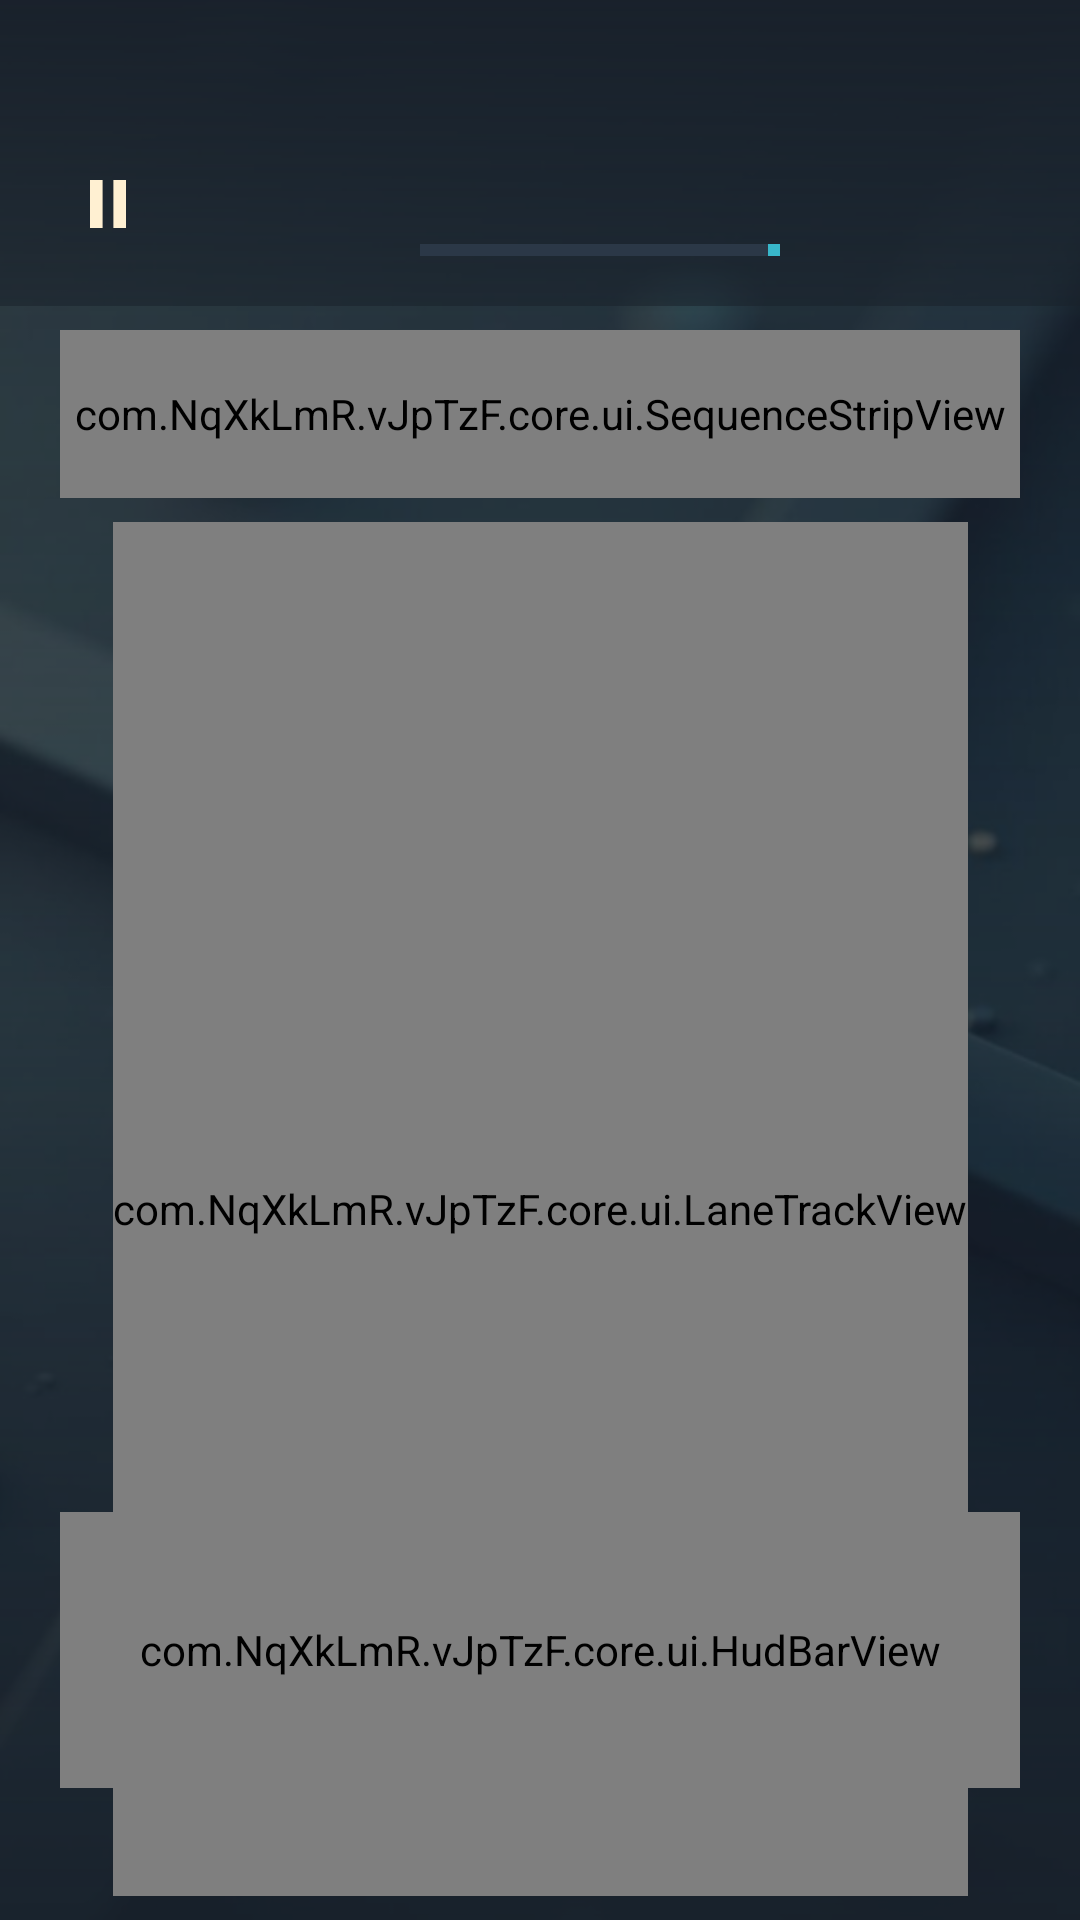

Screen size 1080x1920. Icon name, then its box in pixels as detection(x1, y1, x2, y2):
Pause the run: detection(90, 180, 126, 228)
